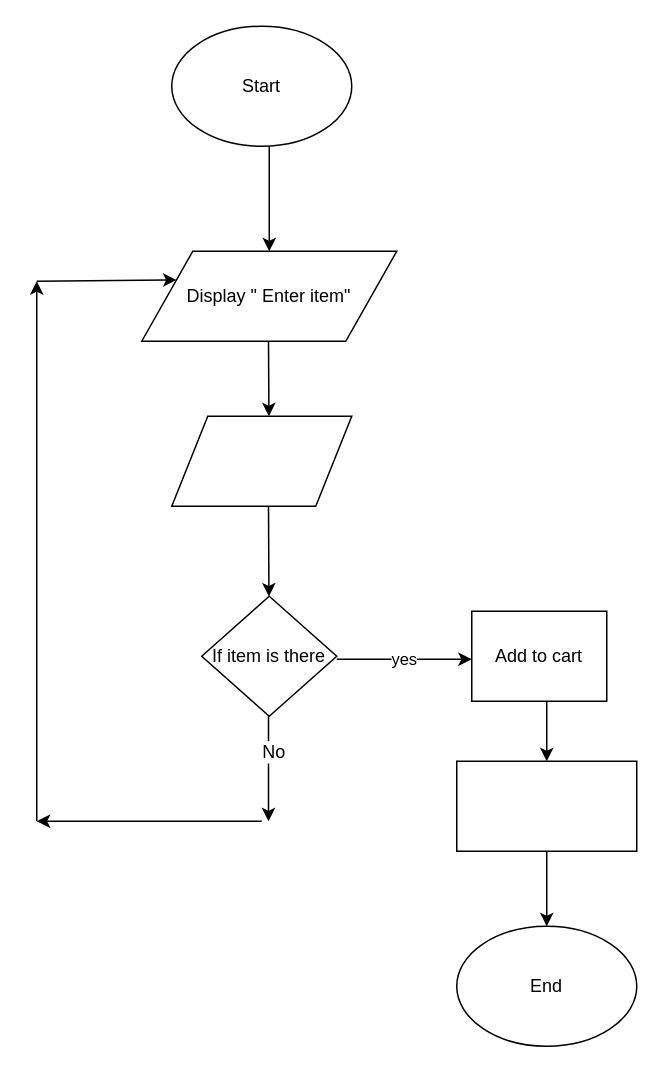
This 663x1073 diagram has some shape labels left out. The centre of each missing label's shape, as x and y in pixels:
"Input item" goes at [261,460].
"Payment & checkout" goes at [546,805].
